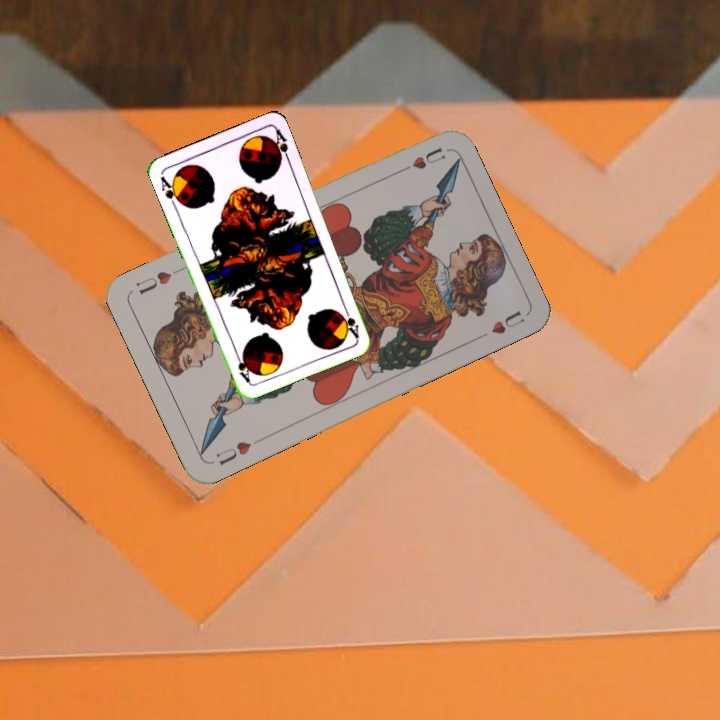HU: (393, 143, 448, 177), (212, 437, 254, 468)
SA: (156, 172, 185, 210), (338, 301, 361, 340)
